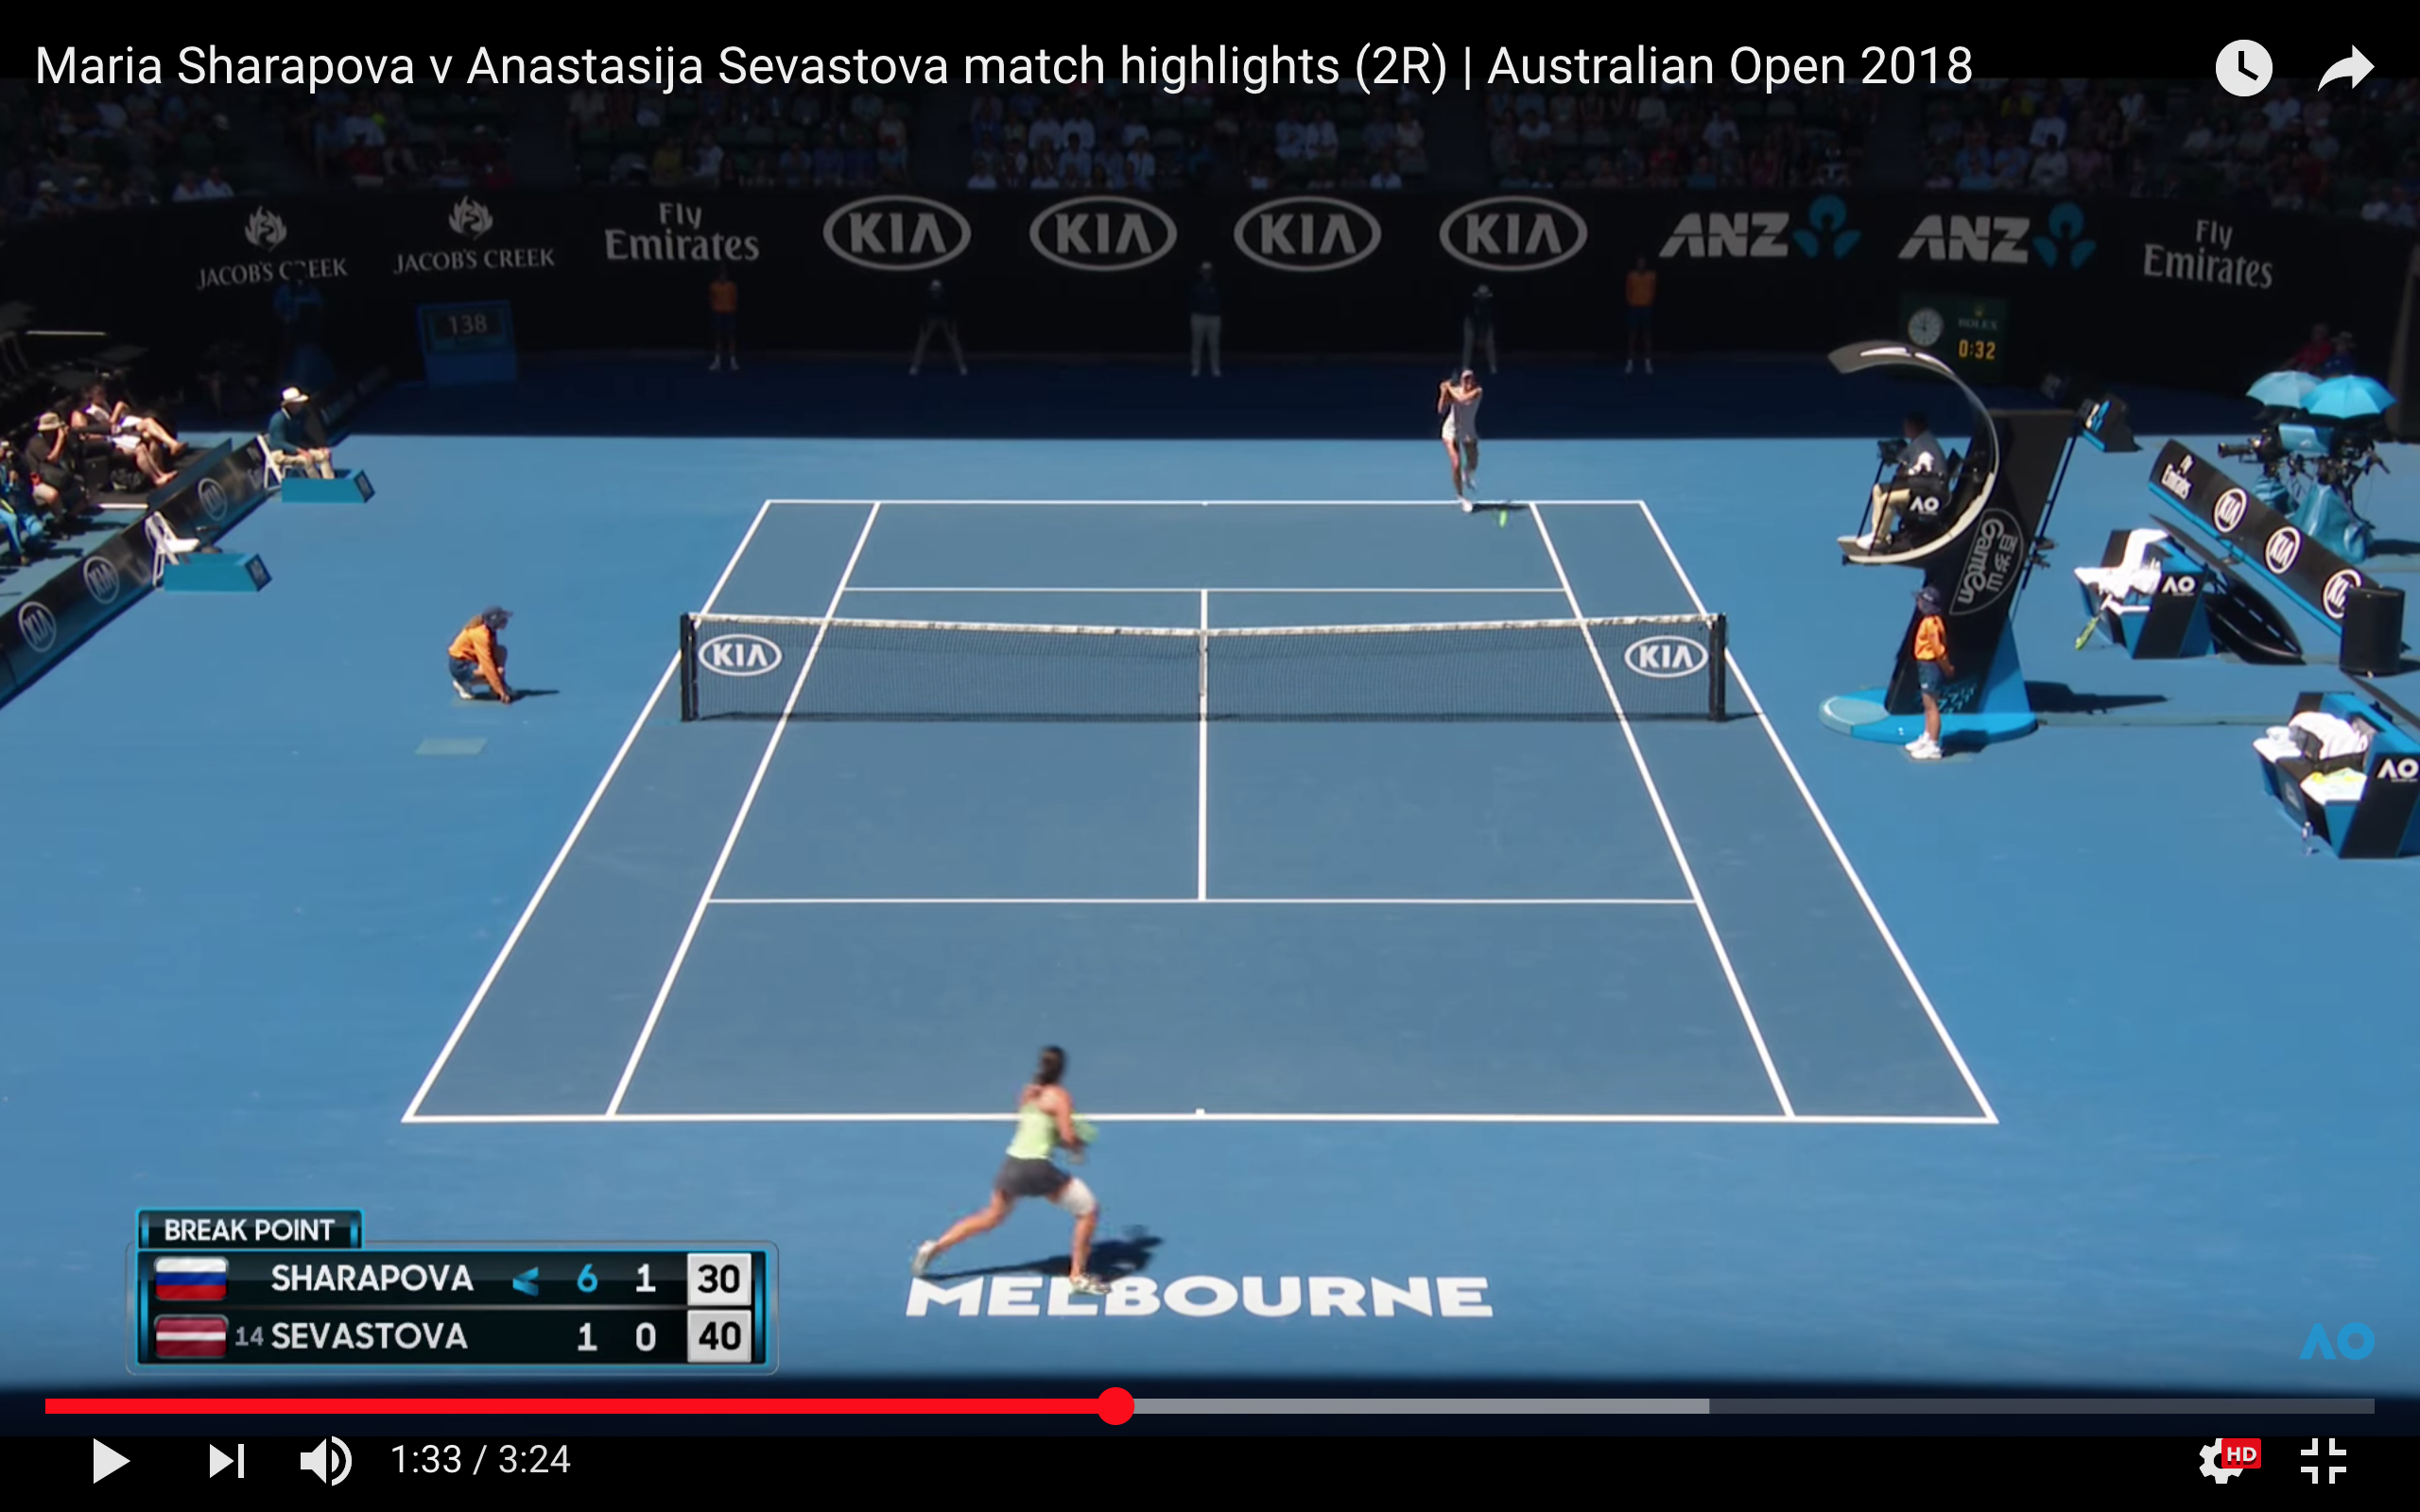tennis ball: (1492, 508, 1517, 531)
tennis player: (969, 1041, 1122, 1298), (1426, 365, 1491, 520)
